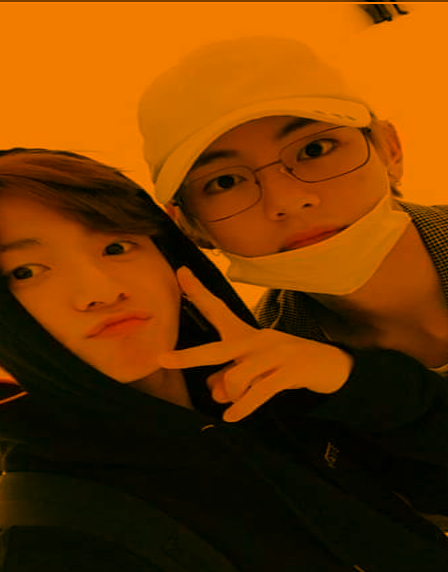mask_weared_incorrect: (142, 33, 400, 299)
